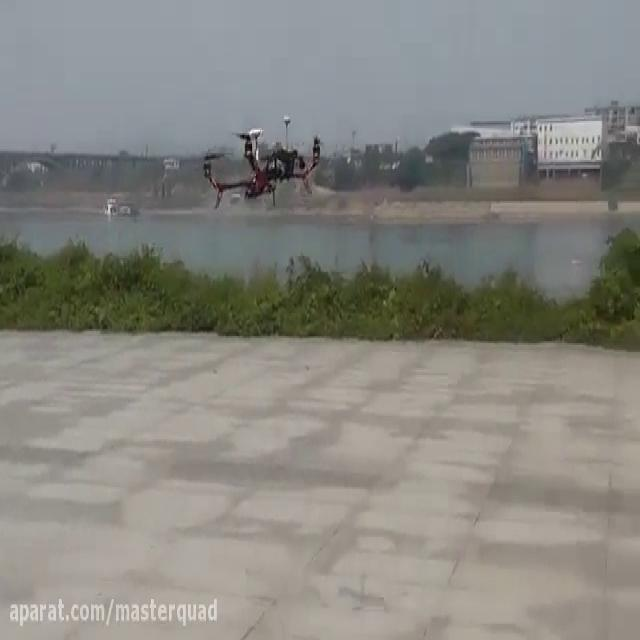drone: (196, 109, 328, 218)
